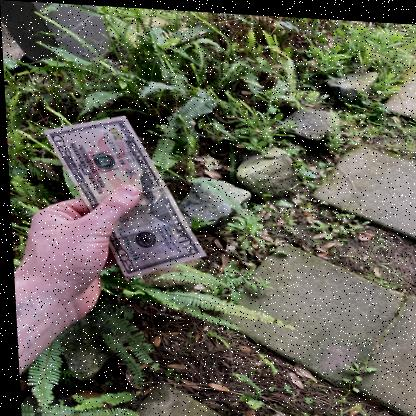fifty-front: (43, 114, 205, 278)
